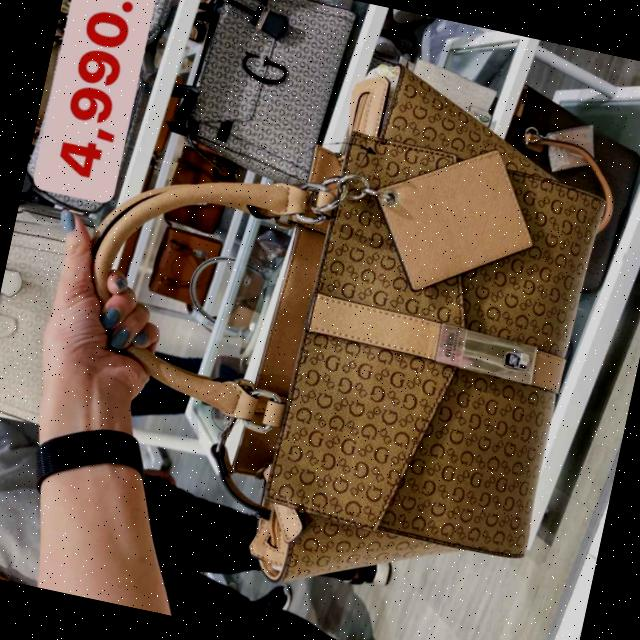Handbag: (188, 46, 626, 628)
